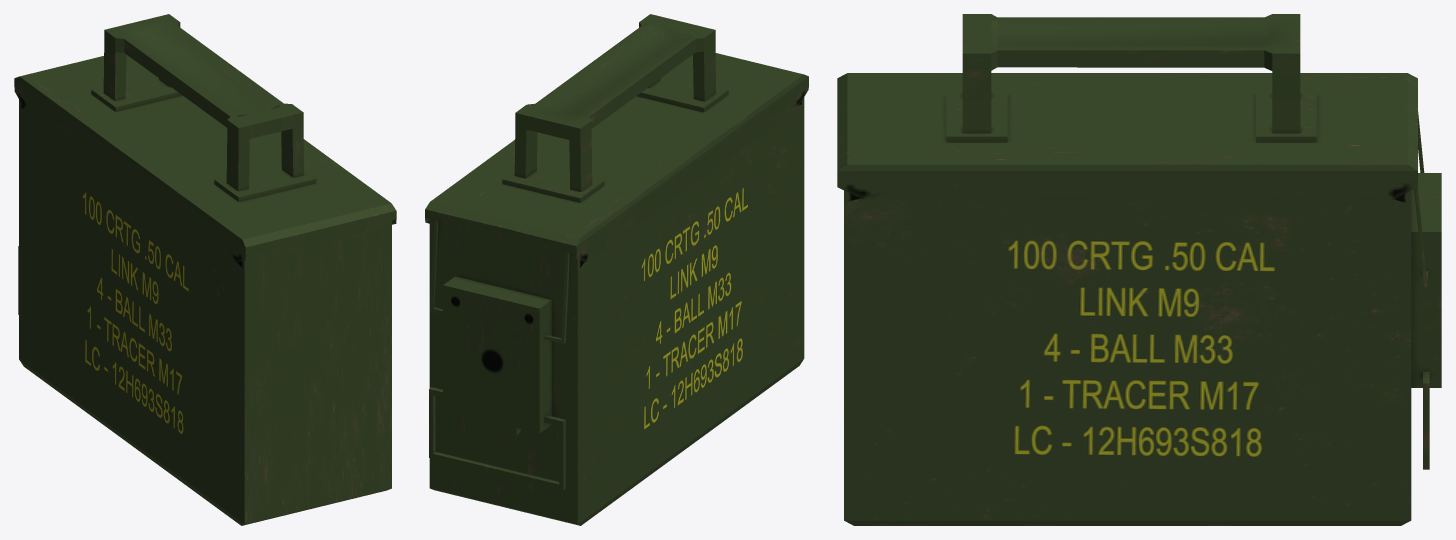
The model's file is ammo_box.glb.
3 renders of one model, left to right at view 1: azimuth 30°, elevation 25°; view 2: azimuth 150°, elevation 25°; view 3: azimuth 270°, elevation 25°, orthographic. The views are drawn at different scales.
Visible parts, largest first — view 1: Box001_Material #2_0; view 2: Box001_Material #2_0; view 3: Box001_Material #2_0.
Boxes of the visible parts, bbox=[...] form: Box001_Material #2_0: bbox=[14, 14, 396, 525]; Box001_Material #2_0: bbox=[425, 14, 808, 525]; Box001_Material #2_0: bbox=[837, 14, 1441, 525].
Size of the model in its own units: 6.17 by 13.92 by 17.04.
1 material, 1 textured.
